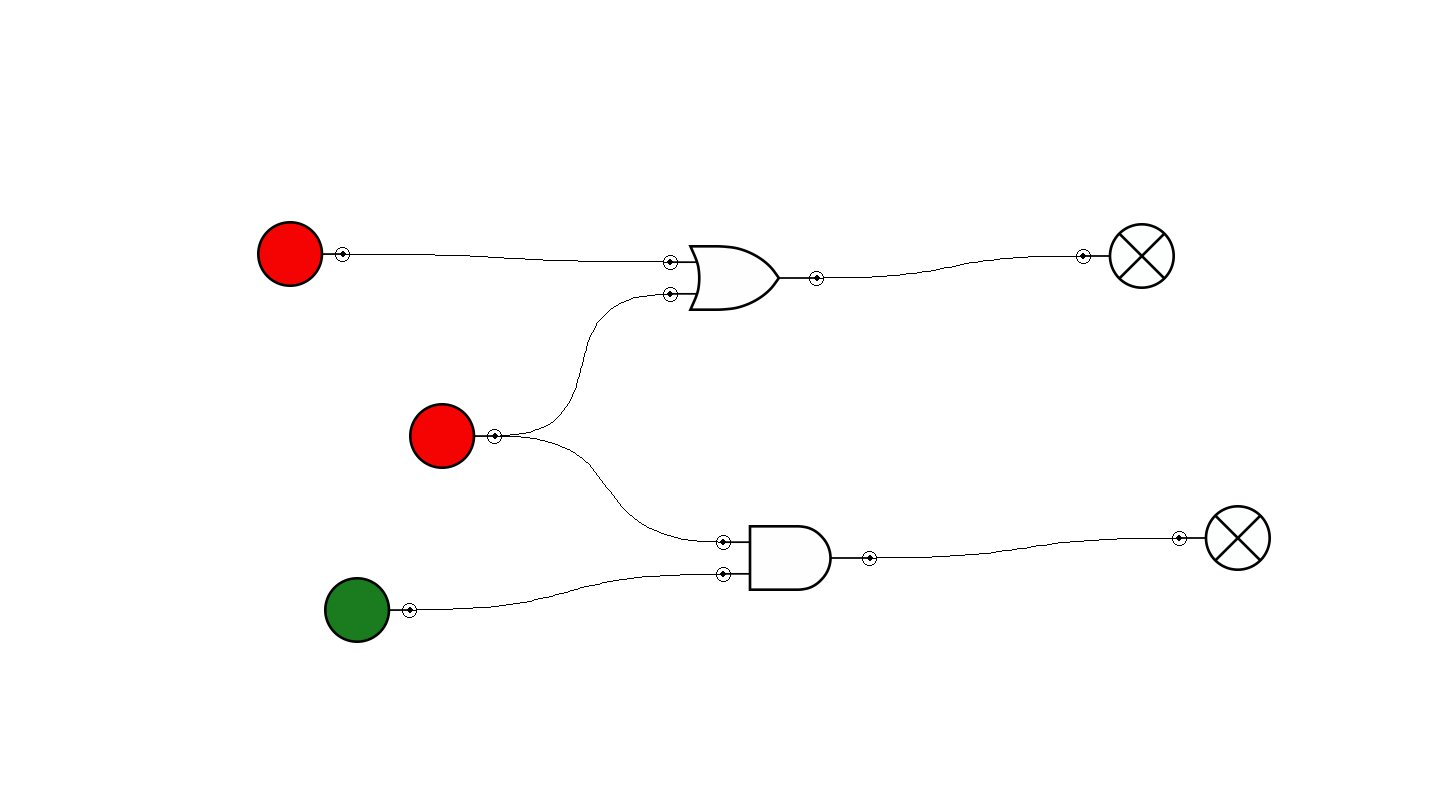and: (716, 525, 877, 591)
bulb: (1076, 223, 1175, 289), (1172, 505, 1271, 571)
or: (663, 245, 824, 311)
switch_False: (257, 221, 350, 287), (409, 403, 502, 469)
switch_True: (324, 577, 417, 643)
